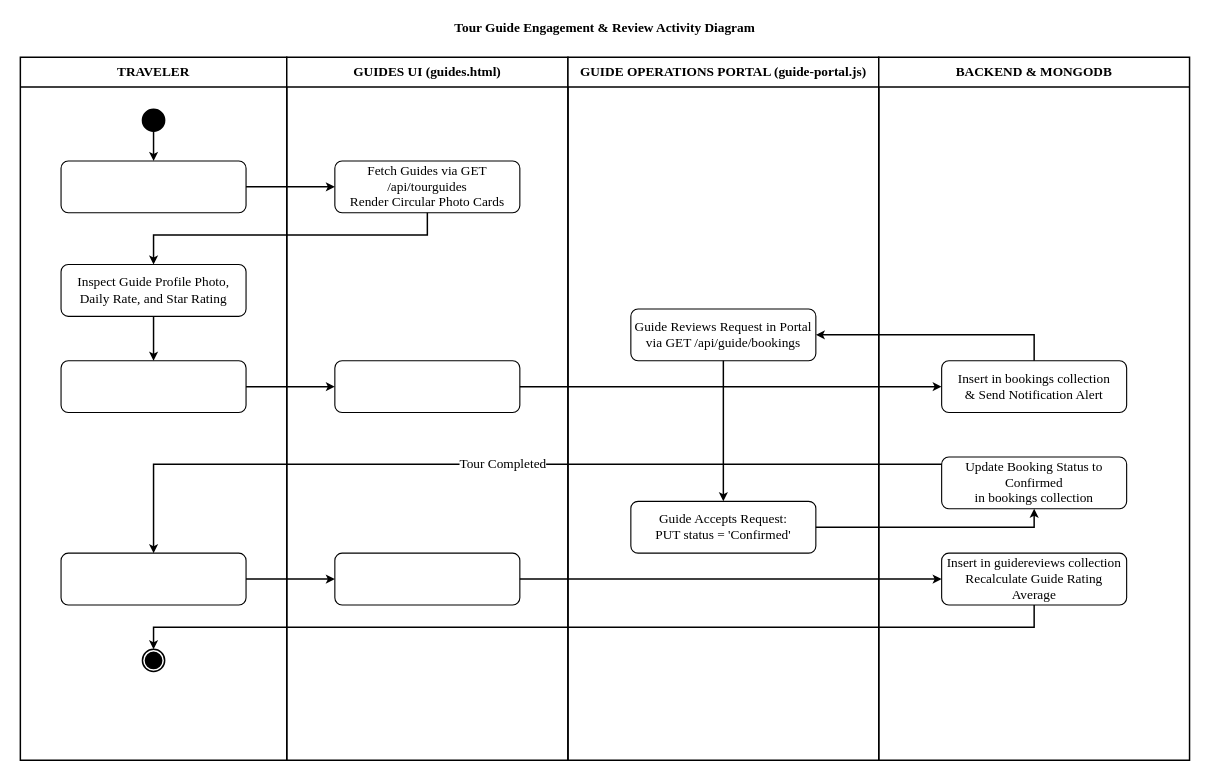
Image size: 1209x773. Some labels were removed from this diagram. Each missing label, with the centre of its shape:
"Browse Certified Tour Guides Filter by Destination Region" goes at point 153,186.
"Conclude Tour & Submit Star Review via Dashboard" goes at point 153,578.
"POST /api/guide-reviews (rating: 1-5, comment)" goes at point 427,578.
"POST /api/tourguide-bookings with traveler & tour details" goes at point 427,386.
"Submit Guide Booking Form (Dates, Tour Days, Notes)" goes at point 153,386.
